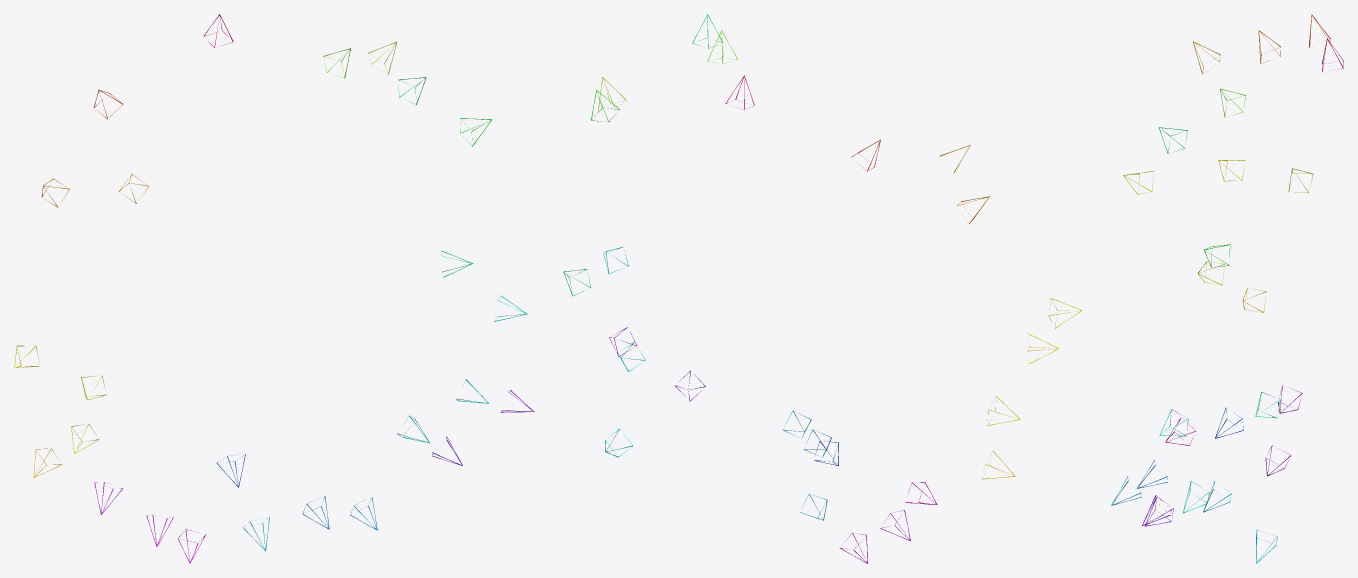
Rendered from sparse.glb.
3 renders of one model, left to right at view 1: azimuth 30°, elevation 25°; view 2: azimuth 150°, elevation 25°; view 3: azimuth 270°, elevation 25°, orthographic.
Visible parts, largest first — view 1: world; view 2: world; view 3: world.
Part boxes in pixels (left/top/right/bottom): world: left=14, top=14, right=534, bottom=563; world: left=563, top=14, right=1082, bottom=563; world: left=1111, top=14, right=1343, bottom=563.
Size of the model in its own units: 3.83 by 3.69 by 1.61.
